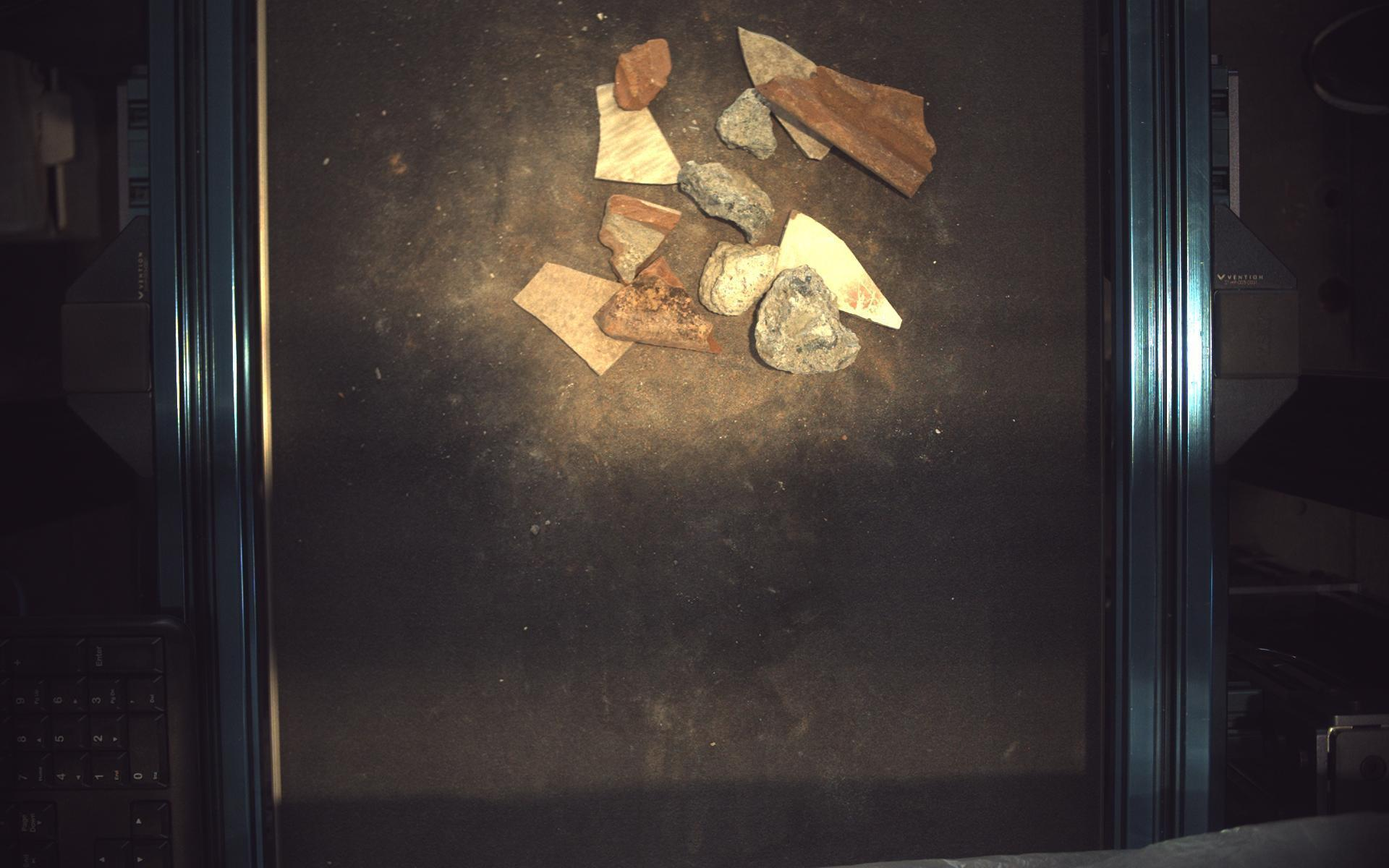brick: (760, 64, 938, 196), (595, 257, 722, 353), (599, 194, 682, 283), (615, 38, 673, 109)
concrete: (755, 264, 862, 374), (679, 159, 776, 243), (700, 241, 780, 315), (716, 86, 778, 159)
tile: (778, 210, 904, 328), (514, 263, 634, 375), (595, 82, 681, 183), (739, 25, 818, 86), (779, 113, 831, 159)
